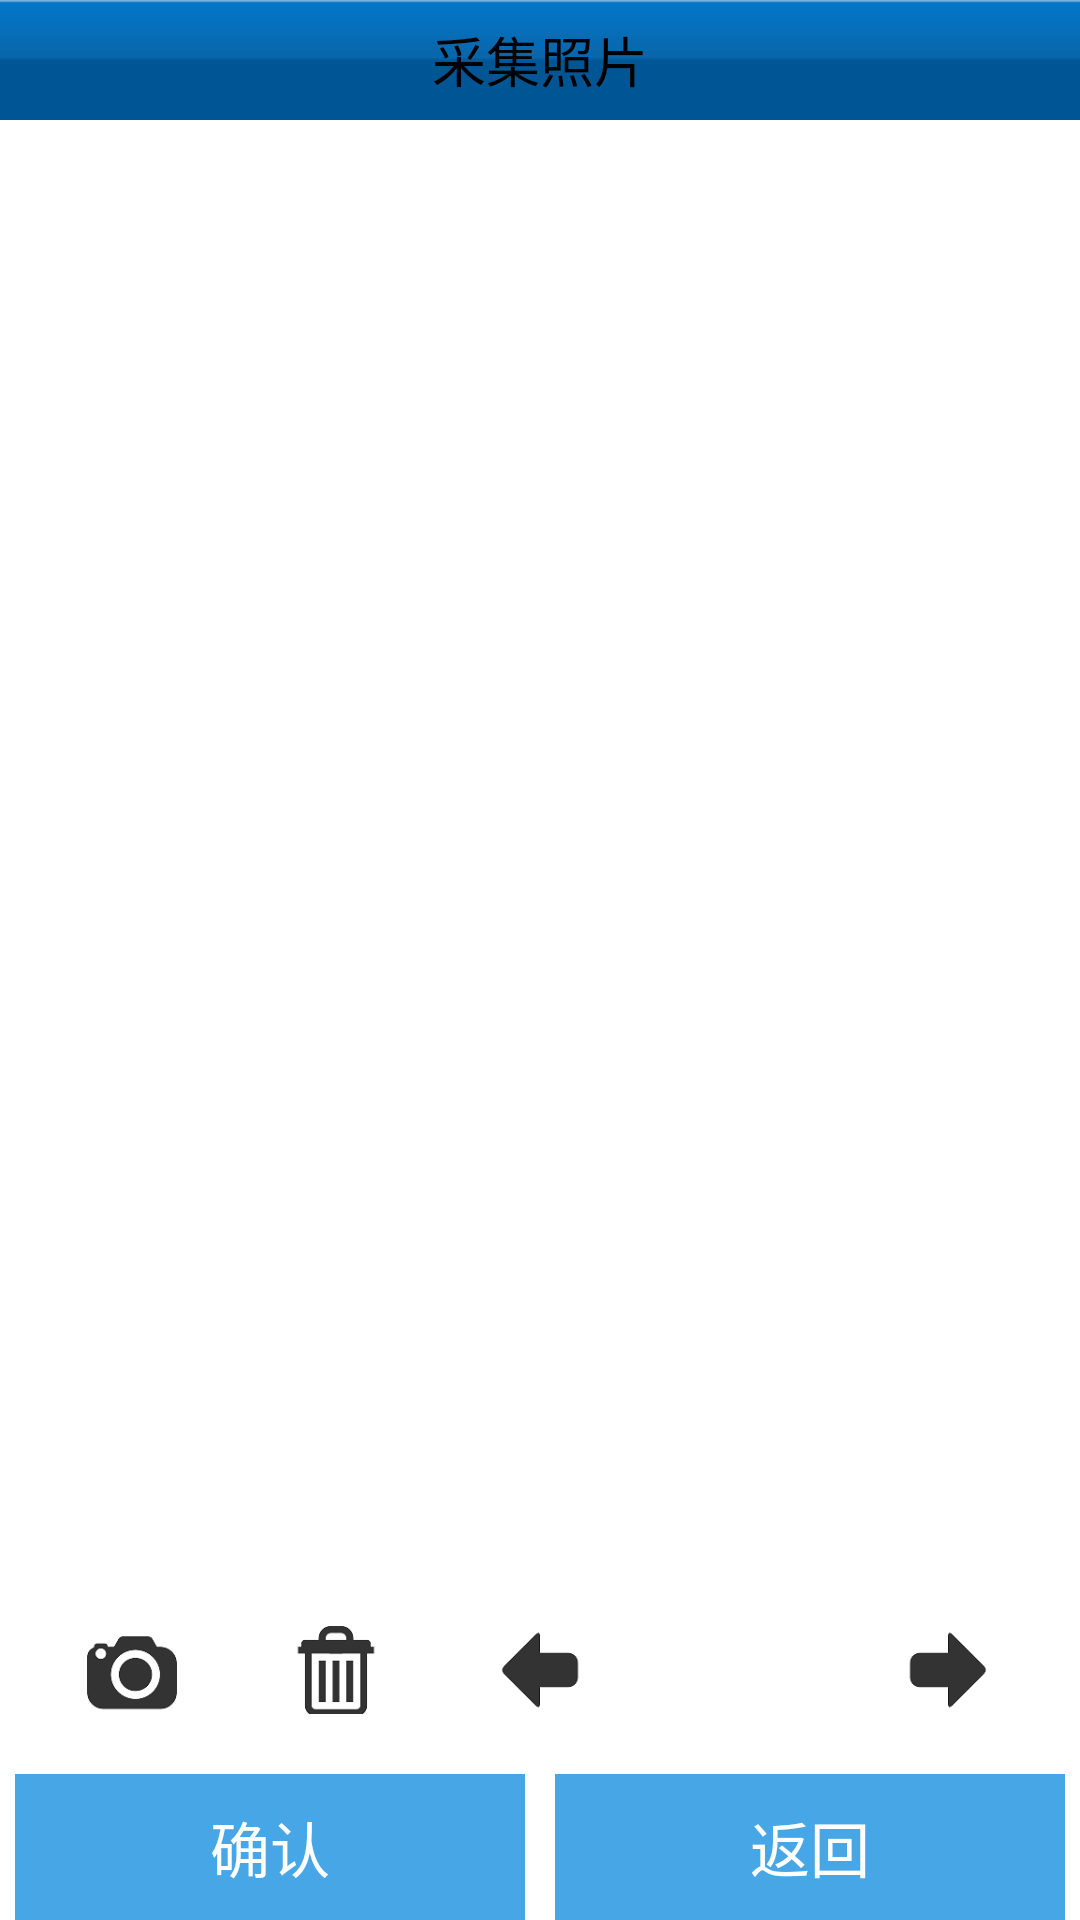

Icon bounding boxes for this 1080×1920 phone screenshot, format (x1, y1, x2, y2):
left: (502, 1632, 579, 1708)
right: (909, 1632, 986, 1708)
take photo: (87, 1636, 177, 1710)
删除: (297, 1626, 375, 1714)
